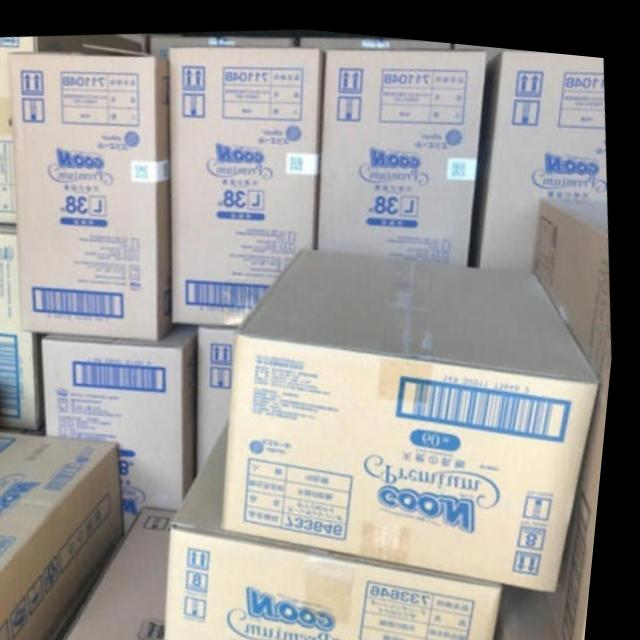box: (232, 240, 605, 581), (176, 411, 515, 640), (8, 41, 178, 335), (170, 42, 324, 322), (536, 186, 616, 640), (320, 40, 487, 255), (47, 317, 205, 533), (472, 41, 610, 261), (0, 428, 135, 640), (71, 503, 186, 640), (0, 224, 56, 434), (0, 38, 39, 223), (204, 320, 246, 474)
